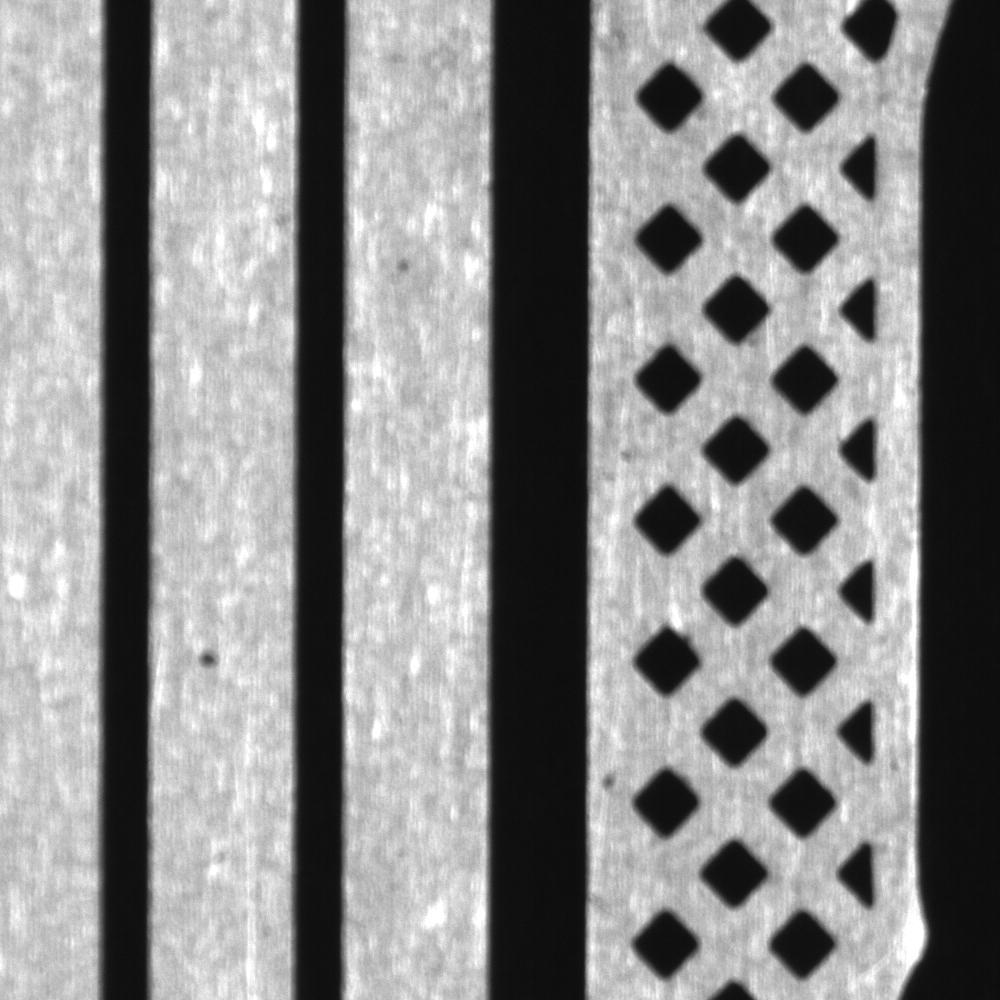Pinhole: (184, 631, 241, 689), (389, 246, 423, 284)
